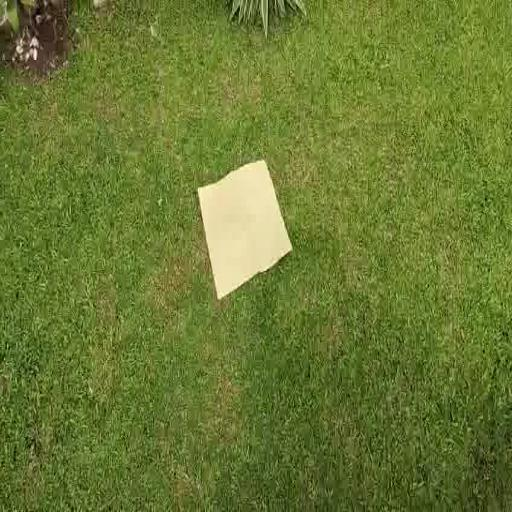landing_path: (196, 154, 296, 305)
